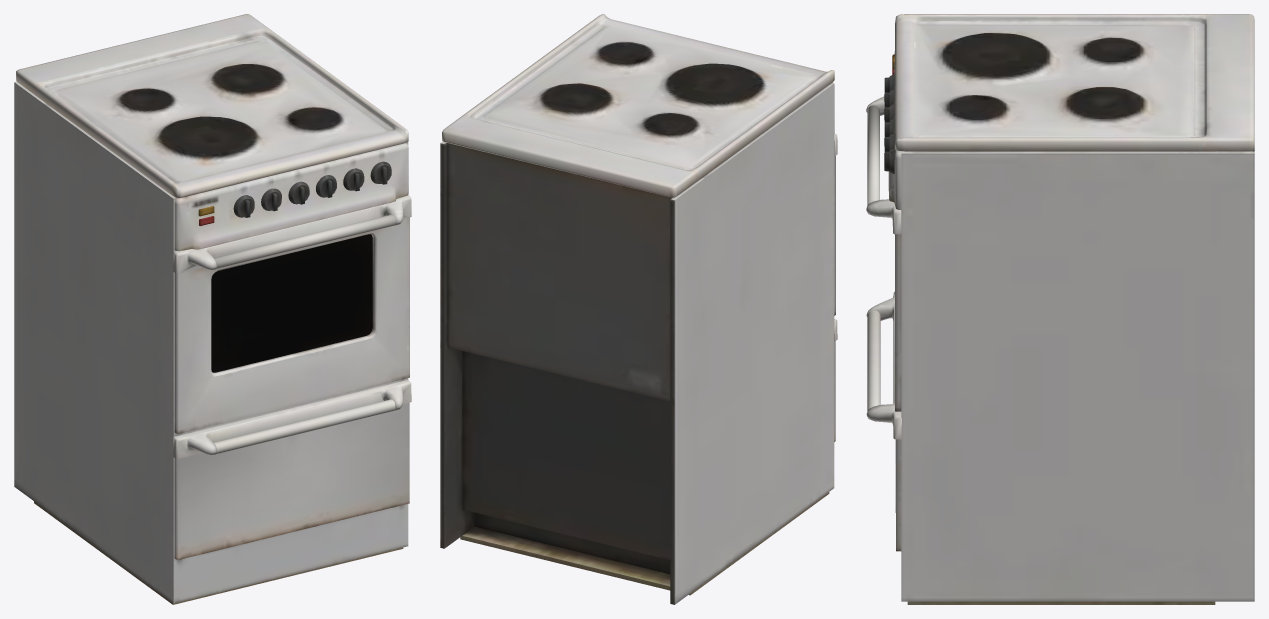
Rendered from electric_stove.glb.
The picture shows the model from 3 angles, left to right: view 1: azimuth 30°, elevation 25°; view 2: azimuth 150°, elevation 25°; view 3: azimuth 270°, elevation 25°; orthographic projection. The views are drawn at different scales.
Parts seen in each view (by area): view 1: stovetop, door_top; view 2: stovetop; view 3: stovetop.
Boxes of the visible parts, x1,y1,x2,y2 form: stovetop: [14, 14, 411, 604]; door_top: [211, 234, 372, 372]; stovetop: [440, 14, 837, 604]; stovetop: [866, 14, 1254, 604].
Size of the model in its own units: 0.5026 by 0.8587 by 0.6477.
Materials: 2 (2 with a texture image).
